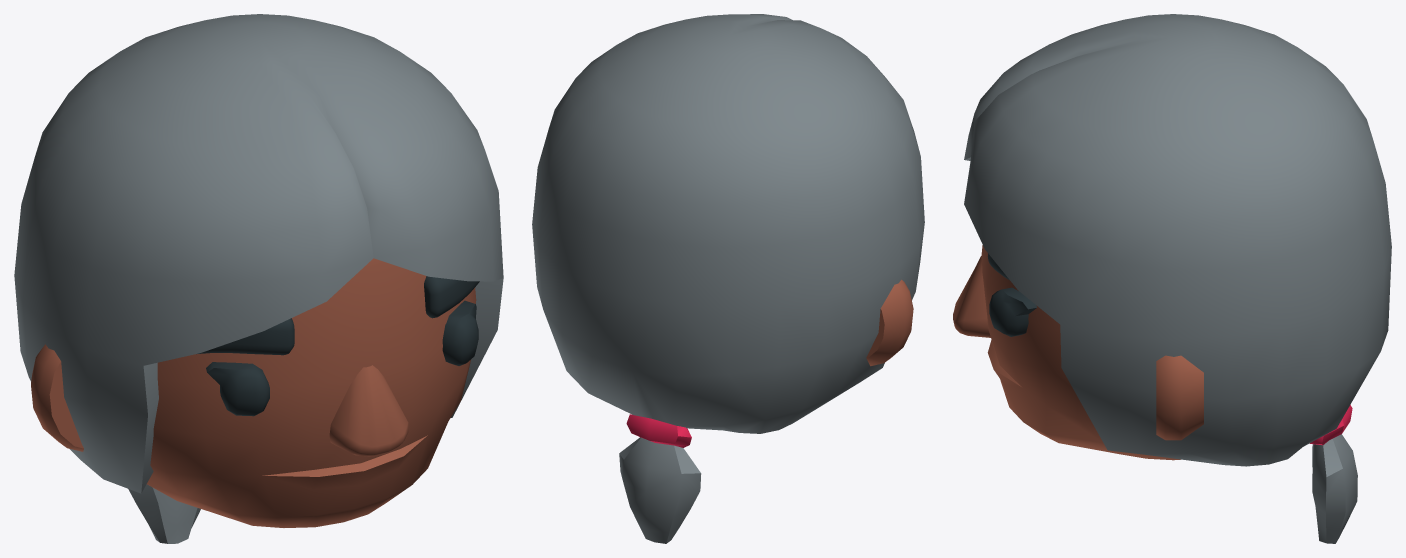
File: mageHeadA.dae
3 renders of one model, left to right at view 1: azimuth 30°, elevation 25°; view 2: azimuth 150°, elevation 25°; view 3: azimuth 270°, elevation 25°, orthographic. The views are drawn at different scales.
Visible parts, largest first — view 1: mageHairA, mageHeadA; view 2: mageHairA, mageHeadA; view 3: mageHairA, mageHeadA.
Part boxes in pixels (x1,y1,x2,y2): mageHairA: (14,14,503,543); mageHeadA: (31,258,479,527); mageHairA: (532,14,924,543); mageHeadA: (866,279,913,366); mageHairA: (964,14,1391,543); mageHeadA: (953,245,1203,460).
Size of the model in its own units: 1.18 by 1.12 by 1.42.
